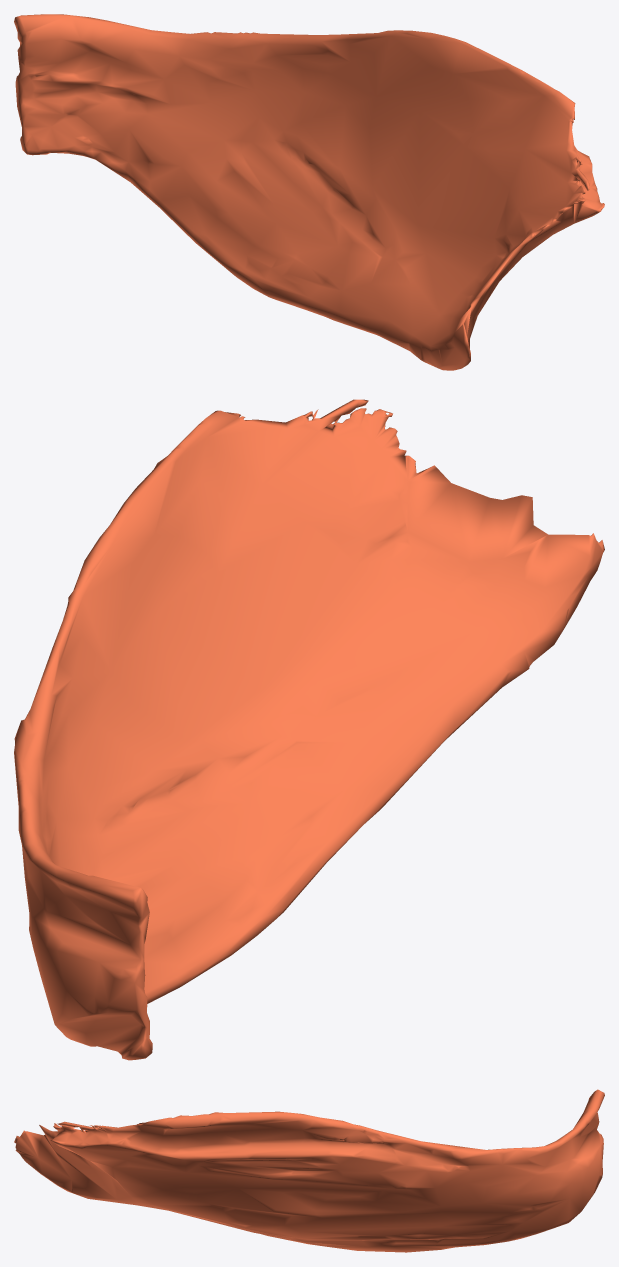
The model's file is Puborectalis_left.glb.
The picture shows the model from 3 angles, top to bottom: view 1: azimuth 30°, elevation 25°; view 2: azimuth 150°, elevation 25°; view 3: azimuth 270°, elevation 25°; orthographic projection. The views are drawn at different scales.
Visible parts, largest first — view 1: Puborectalis_muscle.l_Generated_Mesh_From_X3D.276; view 2: Puborectalis_muscle.l_Generated_Mesh_From_X3D.276; view 3: Puborectalis_muscle.l_Generated_Mesh_From_X3D.276.
Part boxes in pixels (left/top/right/bottom): Puborectalis_muscle.l_Generated_Mesh_From_X3D.276: left=14, top=14, right=604, bottom=370; Puborectalis_muscle.l_Generated_Mesh_From_X3D.276: left=14, top=399, right=604, bottom=1060; Puborectalis_muscle.l_Generated_Mesh_From_X3D.276: left=14, top=1089, right=604, bottom=1252.
Bounding box in the file's own units: 0.0304 × 0.0302 × 0.0843.
